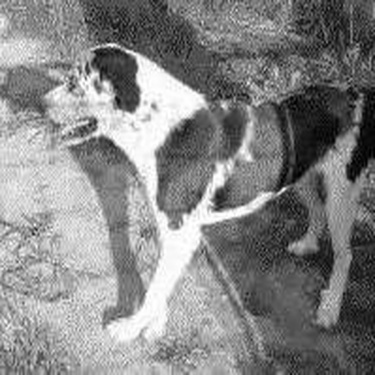dog: (32, 23, 371, 371)
